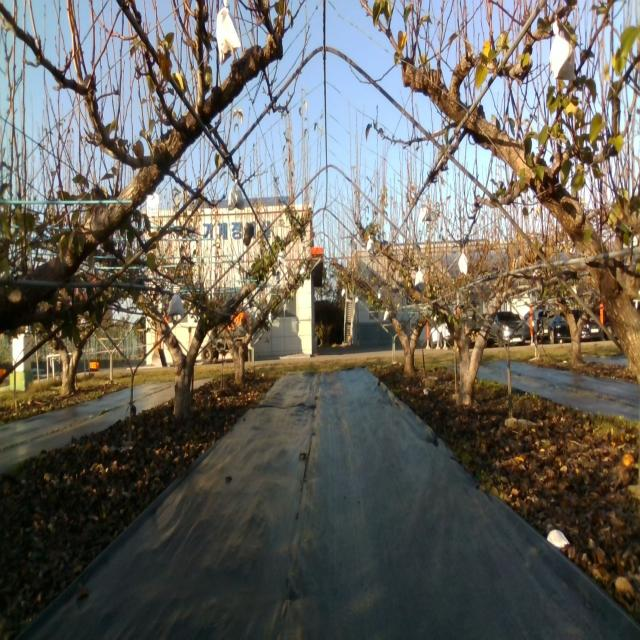pearbags: (548, 21, 577, 84), (214, 0, 240, 63), (228, 180, 244, 212), (168, 294, 184, 317), (419, 195, 432, 222)
